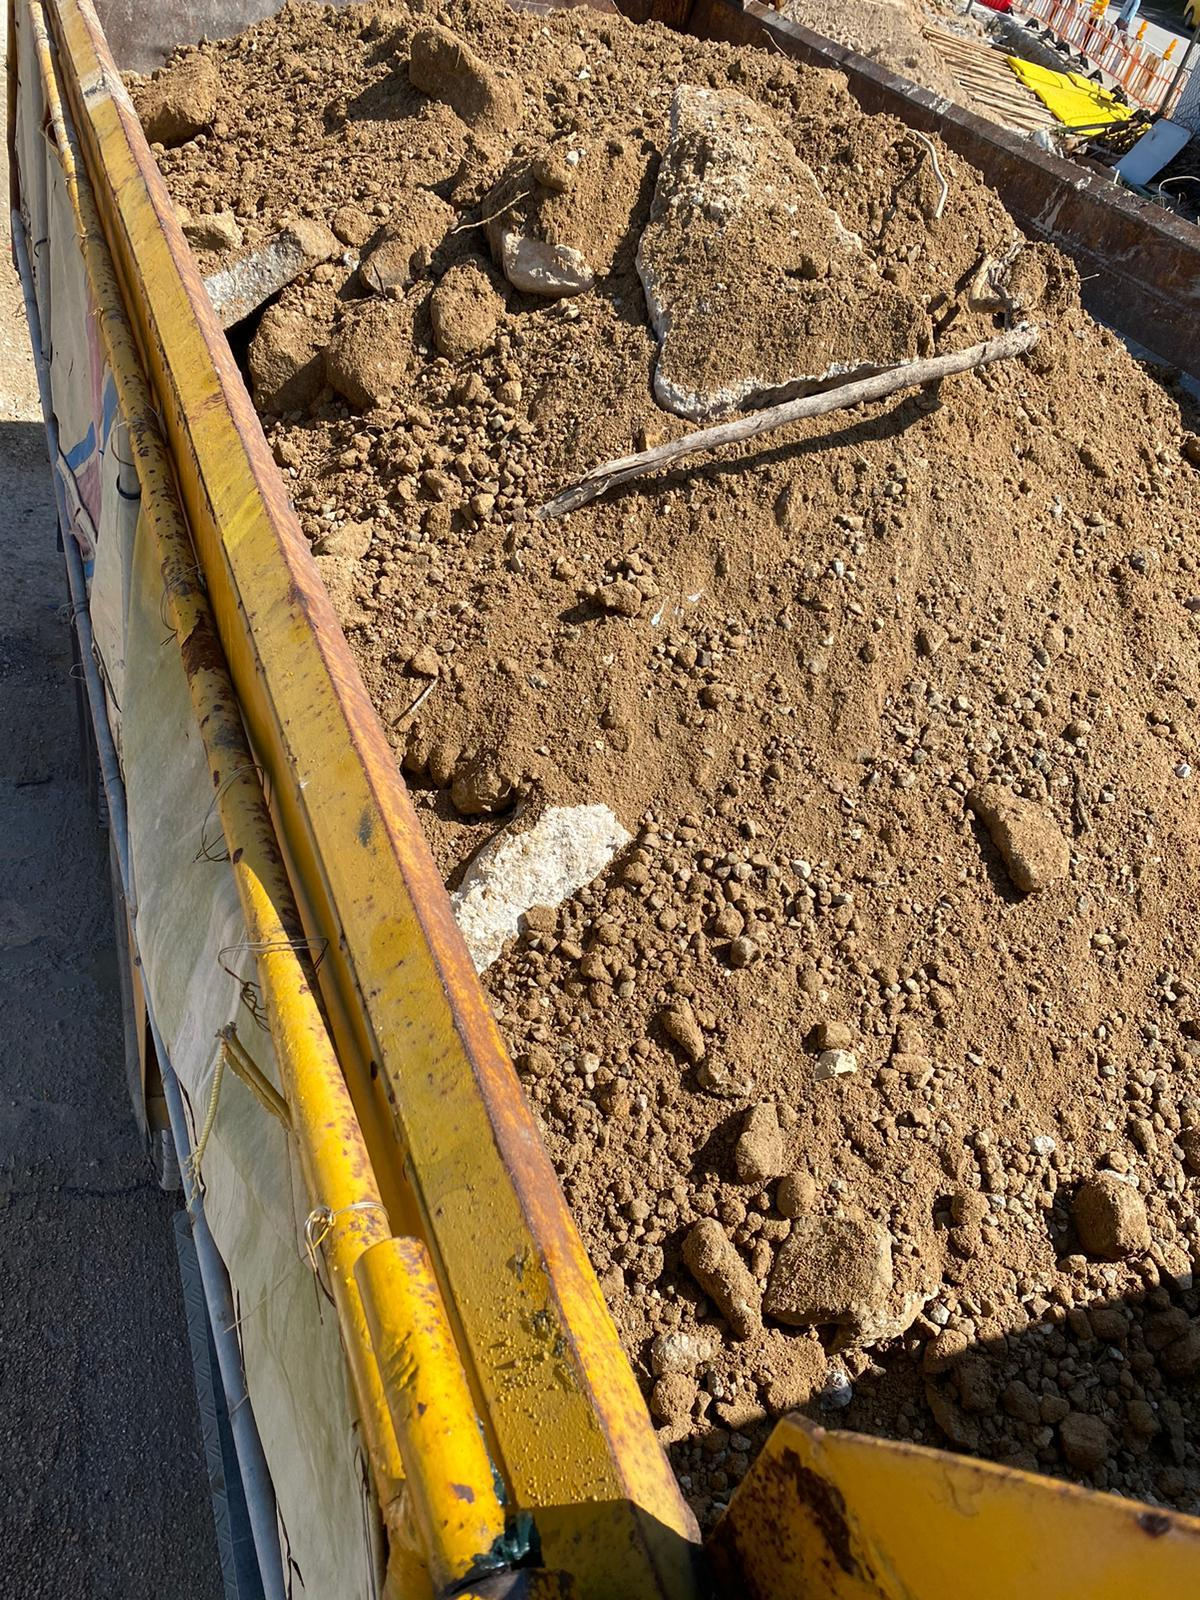dirt: (103, 1, 1197, 1532)
stone: (632, 83, 934, 421), (447, 801, 633, 976), (761, 1213, 892, 1328), (406, 21, 522, 134), (964, 781, 1070, 893), (320, 296, 416, 409), (679, 1216, 763, 1339), (429, 258, 503, 359), (1069, 1170, 1151, 1259), (655, 1000, 705, 1063)
